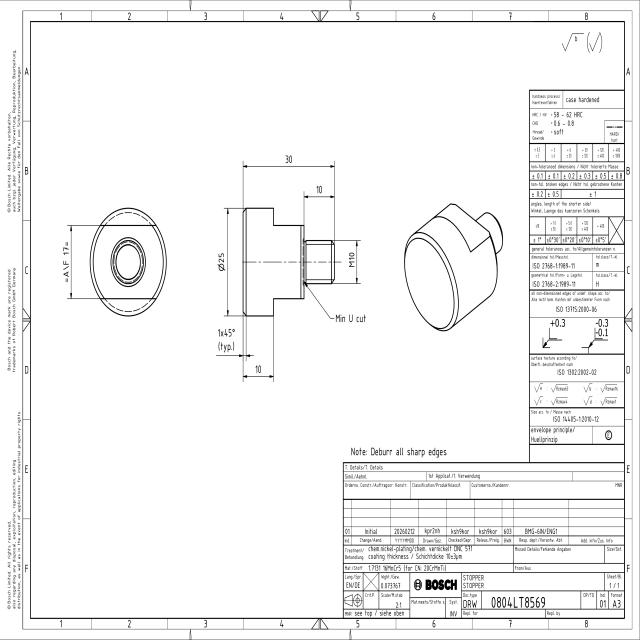dimension: (216, 327, 236, 353), (334, 312, 366, 325), (62, 241, 70, 284), (217, 251, 226, 273), (347, 251, 356, 269), (284, 151, 294, 166), (315, 184, 323, 195), (254, 364, 262, 375)
